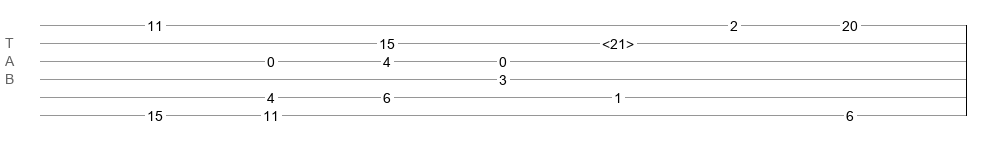0: (267, 54, 275, 64), (499, 54, 507, 64)
1: (614, 90, 622, 100)
11: (147, 18, 163, 28), (263, 108, 279, 118)
15: (147, 108, 163, 118), (379, 36, 395, 46)
2: (730, 18, 738, 28)
20: (842, 18, 858, 28)
3: (499, 72, 507, 82)
4: (267, 90, 275, 100), (383, 54, 391, 64)
6: (383, 90, 391, 100), (846, 108, 854, 118)
harmonic: (602, 36, 634, 46)
